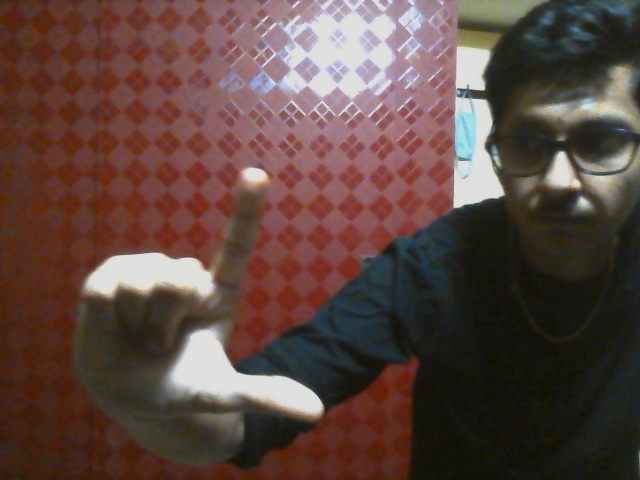L: (78, 167, 326, 426)
